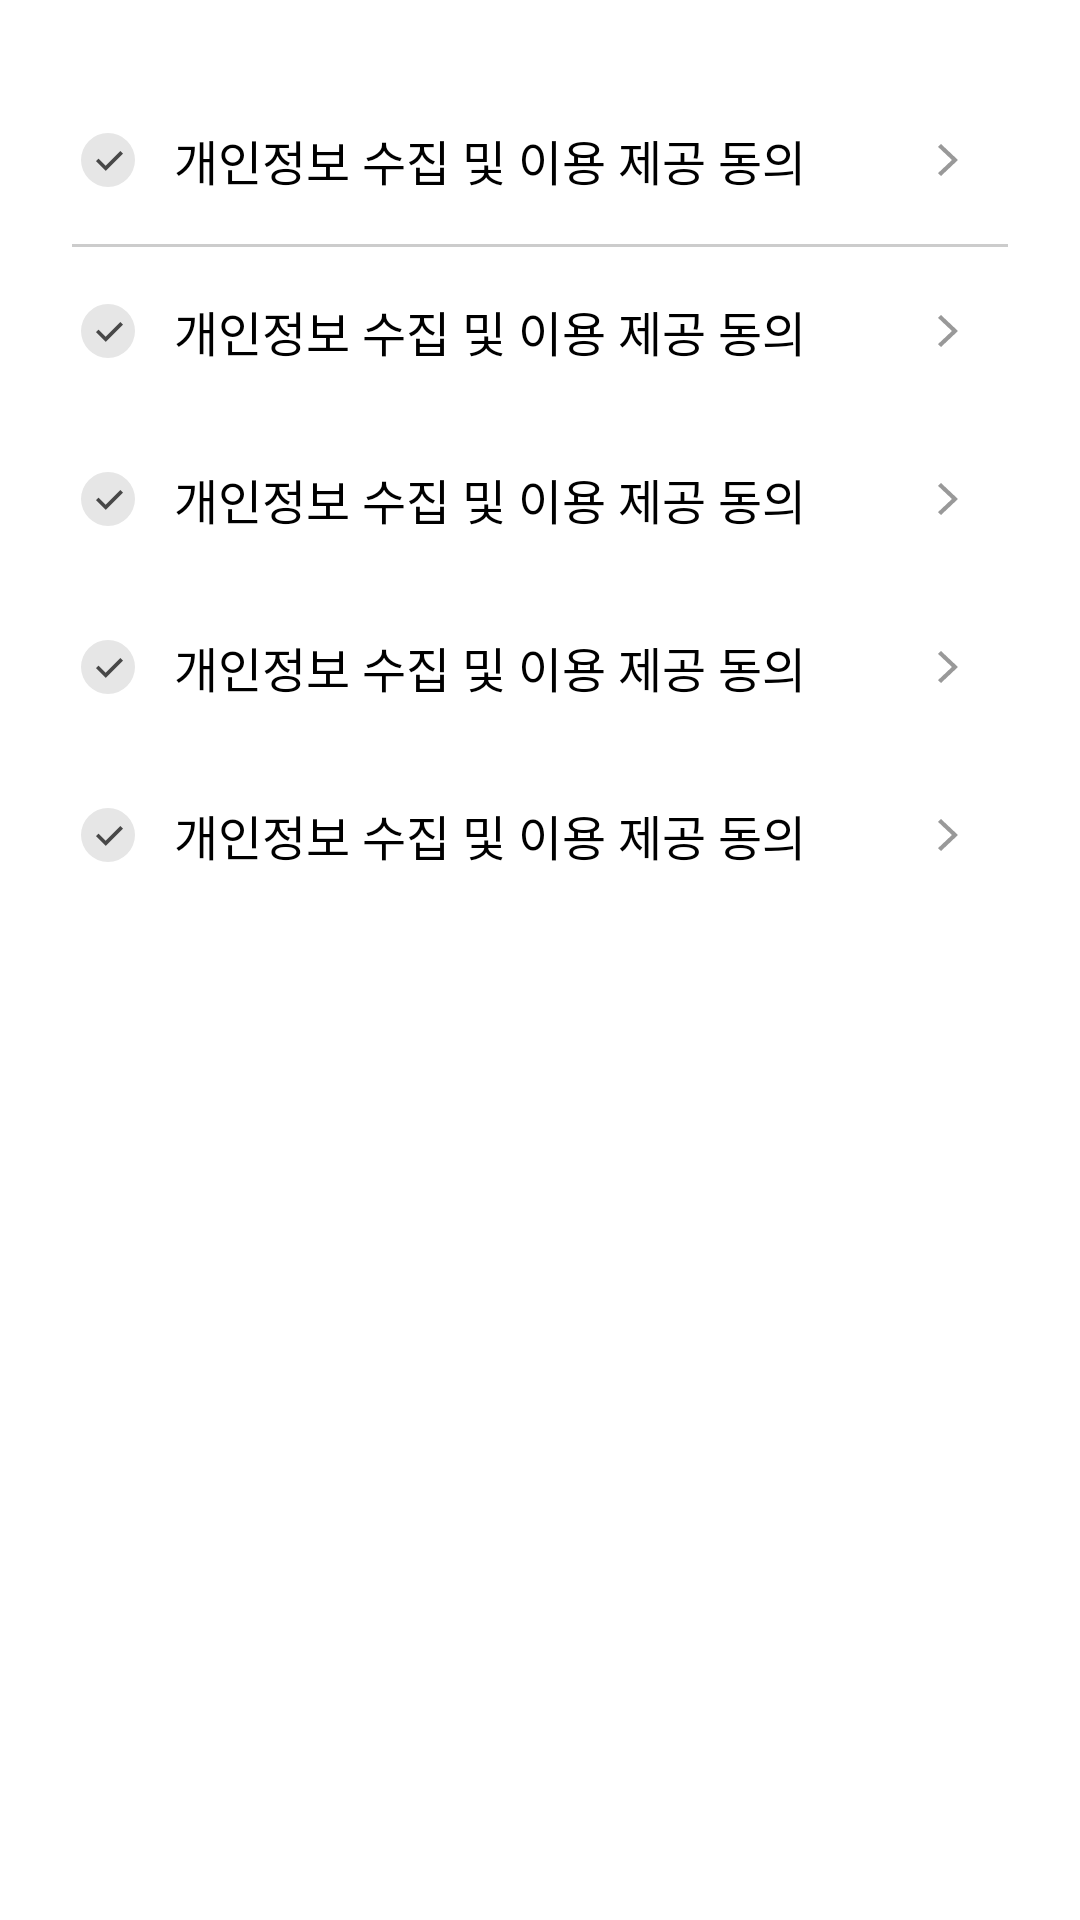

Icon click points for this 1080*1920 phone screenshot, format point (x, y):
arrow right: point (948, 160), point (948, 331), point (948, 499), point (948, 667), point (948, 835)
register terms: point (107, 160), point (107, 331), point (107, 499), point (107, 667), point (107, 835)
